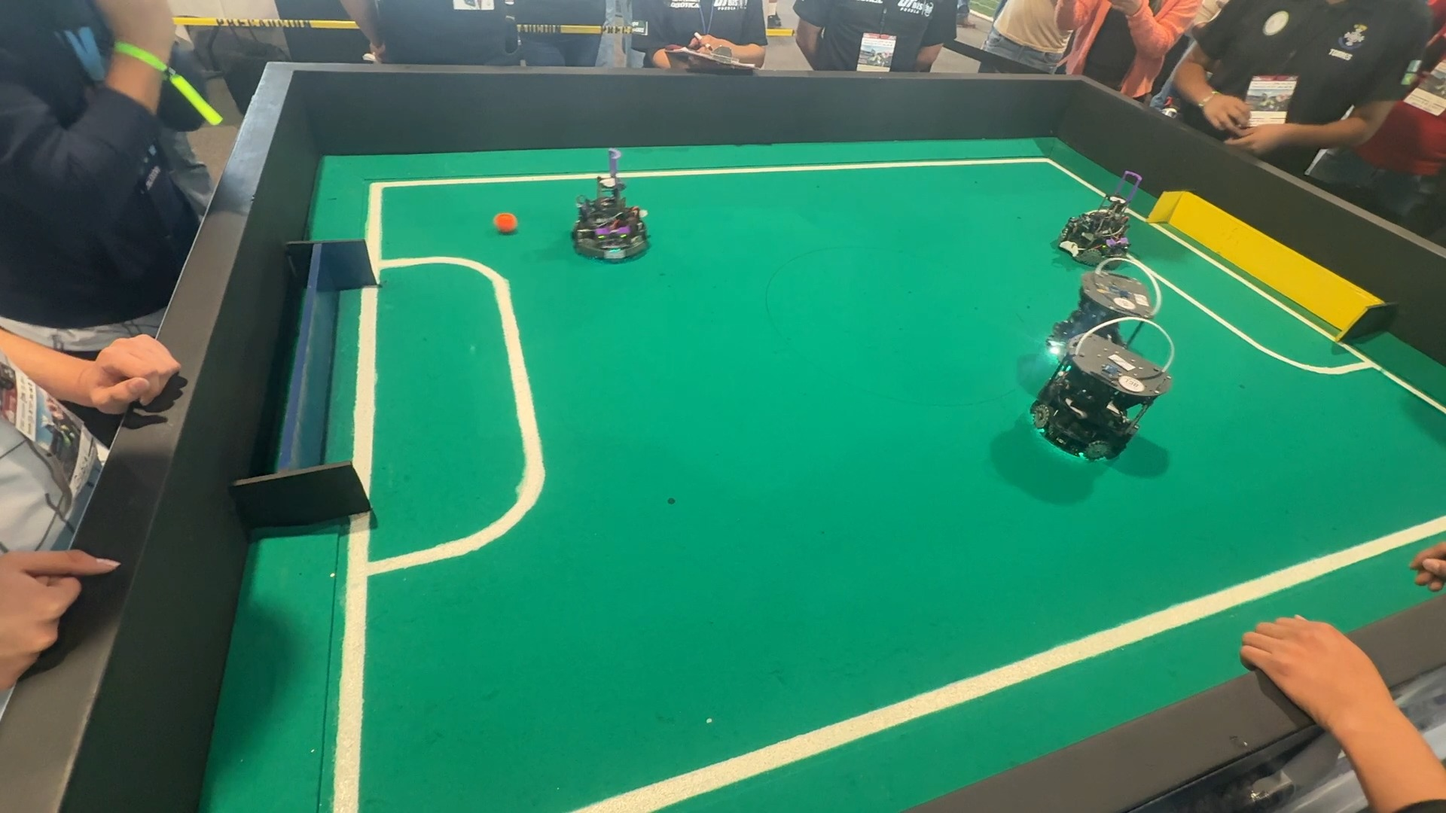Robot: (1000, 275, 1206, 491), (568, 172, 663, 268), (1043, 189, 1149, 269)
pelota: (487, 211, 522, 239)
